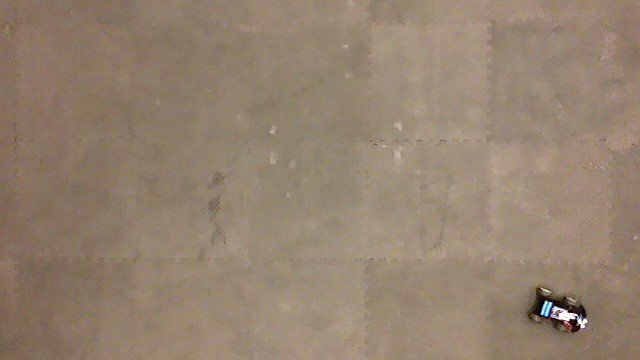Agent: (527, 284, 590, 335)
